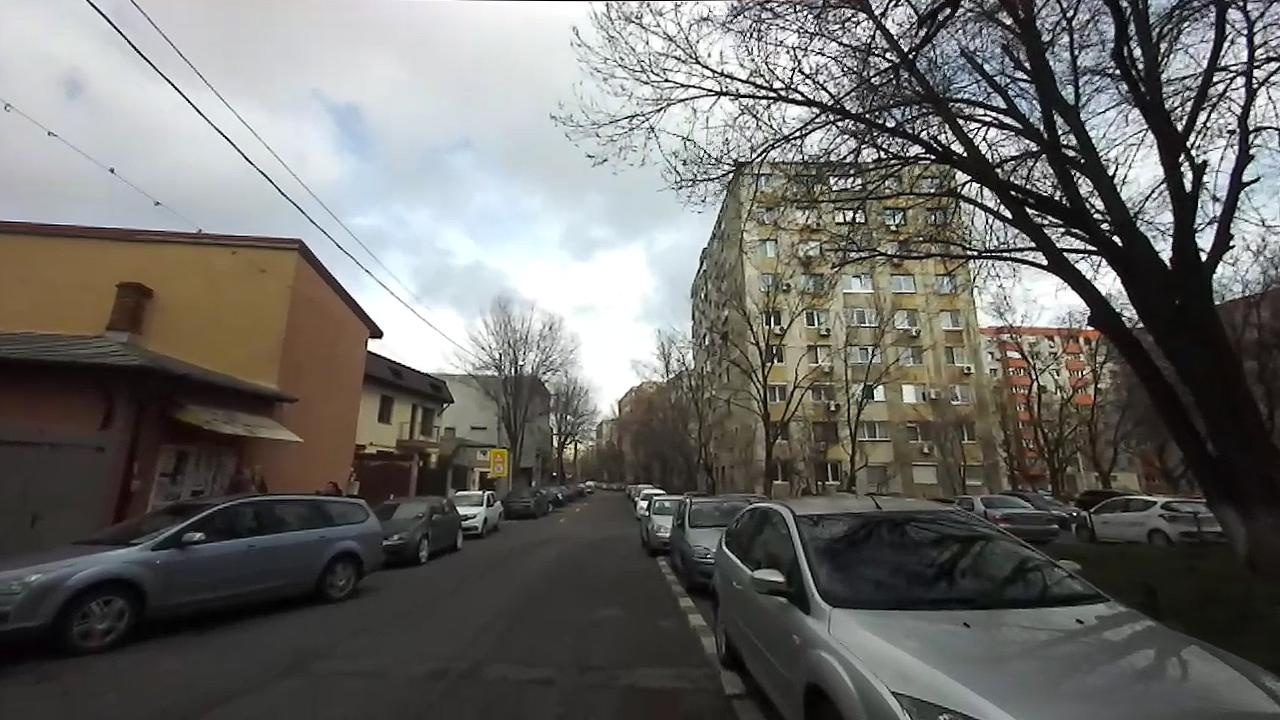pothole: (520, 664, 621, 694)
